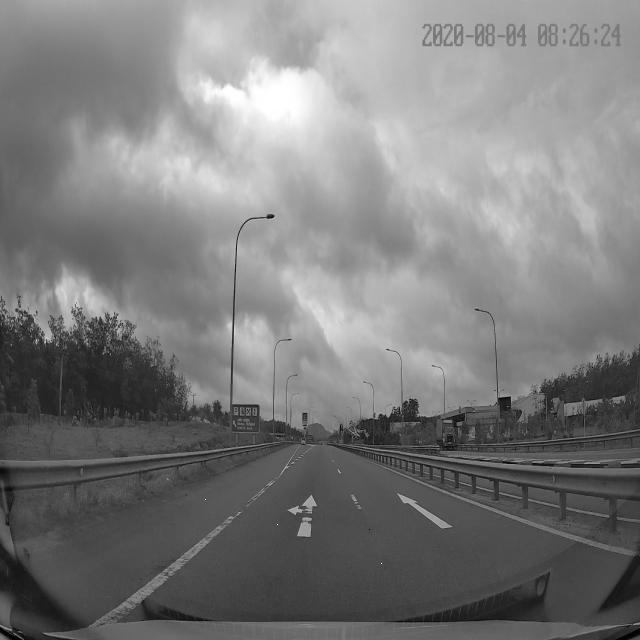forward_lft: (198, 479, 390, 565)
